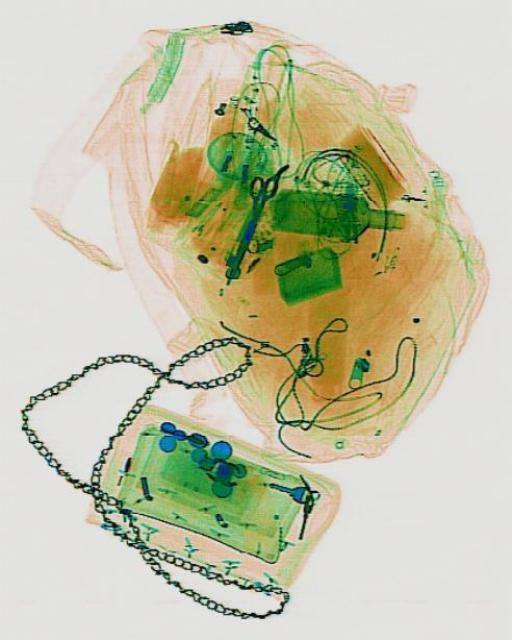Scissors: (217, 166, 279, 290)
